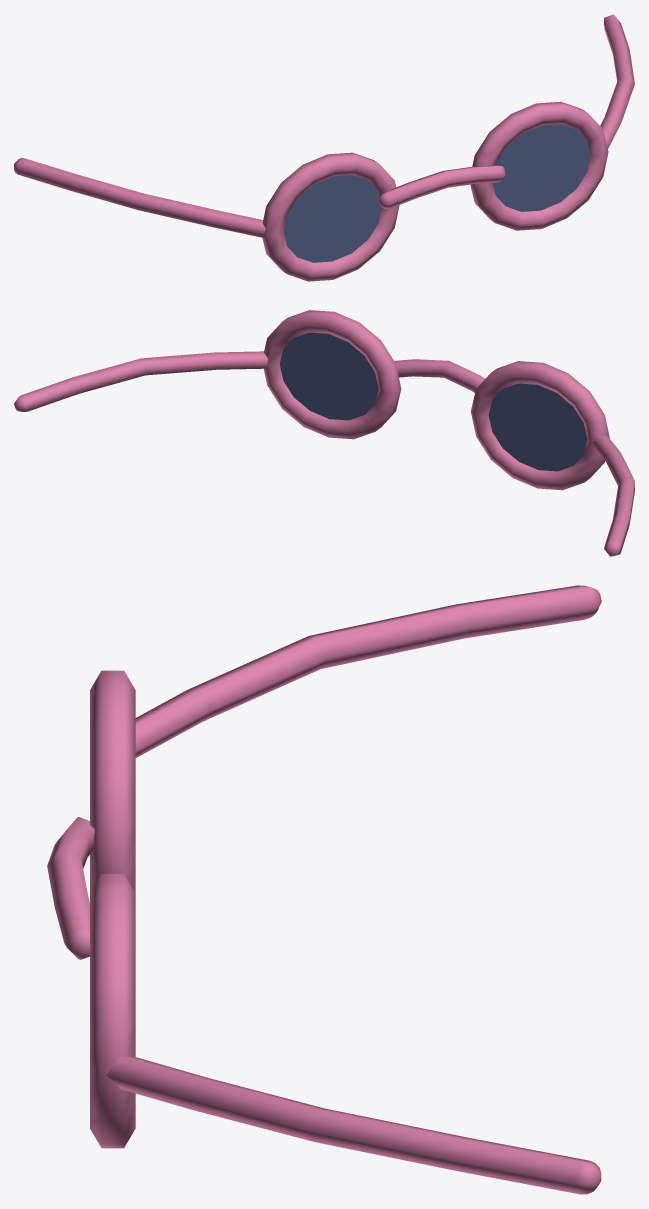
Rendered from heart_shades.glb.
The picture shows the model from 3 angles, top to bottom: view 1: azimuth 30°, elevation 25°; view 2: azimuth 150°, elevation 25°; view 3: azimuth 270°, elevation 25°; orthographic projection. The views are drawn at different scales.
Visible parts, largest first — view 1: heart_shades_Head; view 2: heart_shades_Head; view 3: heart_shades_Head.
Part boxes in pixels (x1,y1,x2,y2): heart_shades_Head: (14, 14, 634, 281); heart_shades_Head: (14, 310, 634, 556); heart_shades_Head: (47, 585, 601, 1194).
Size of the model in its own units: 0.674 by 0.1296 by 0.2681.
